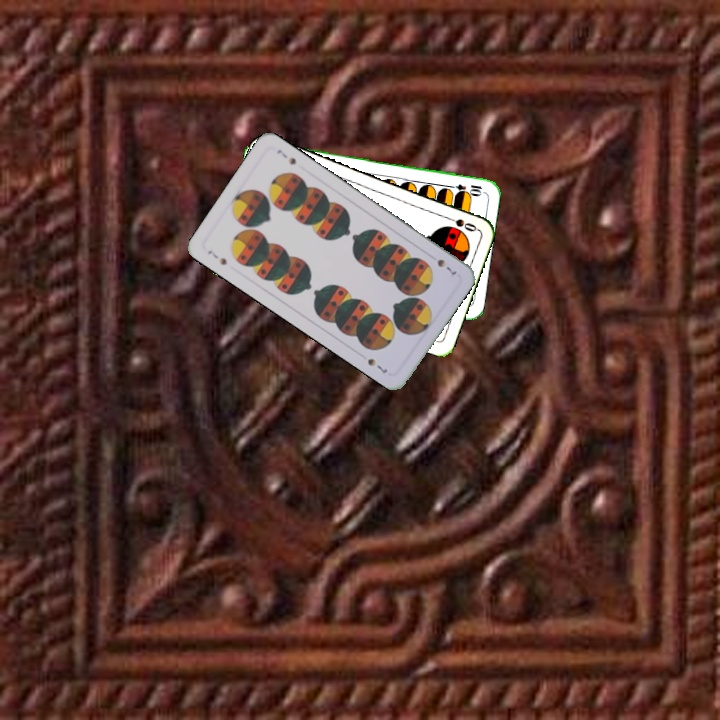E10: (444, 180, 485, 197)
S7: (433, 255, 459, 279), (203, 246, 229, 268)
SO: (440, 212, 480, 234)
